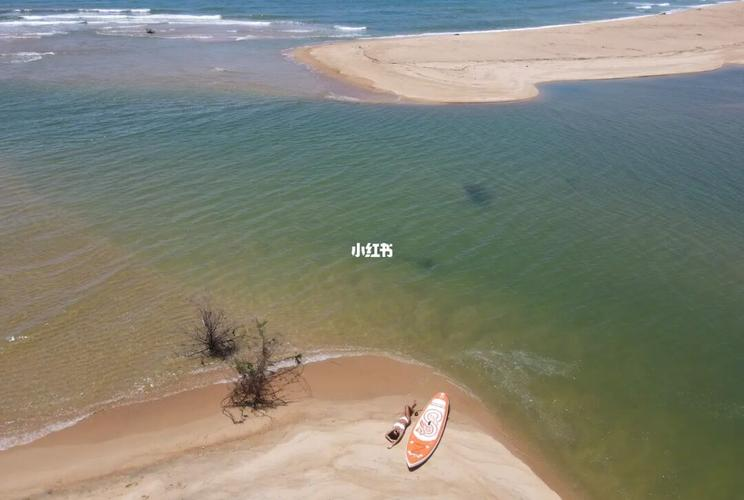sea_river: (25, 86, 736, 378), (306, 112, 725, 436)
